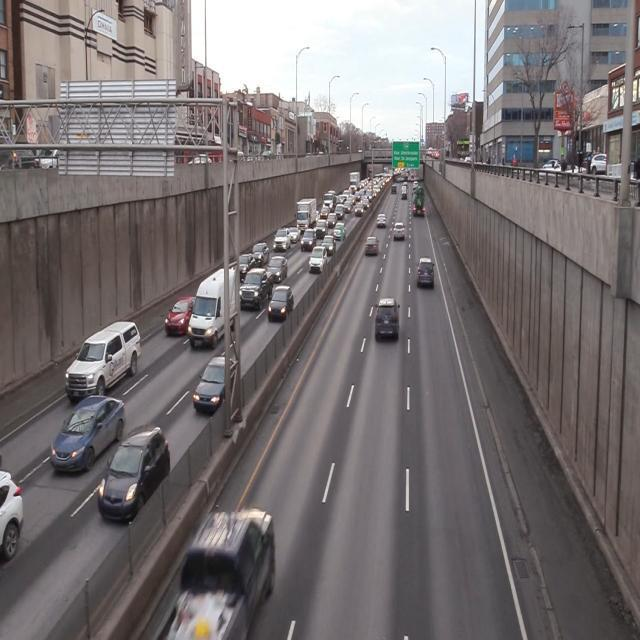Car: (95, 426, 170, 523), (49, 393, 125, 473), (0, 470, 24, 562), (191, 355, 227, 414), (372, 297, 400, 340)
MiniBus: (163, 507, 276, 639)
Traffic-sign: (391, 140, 419, 169)
